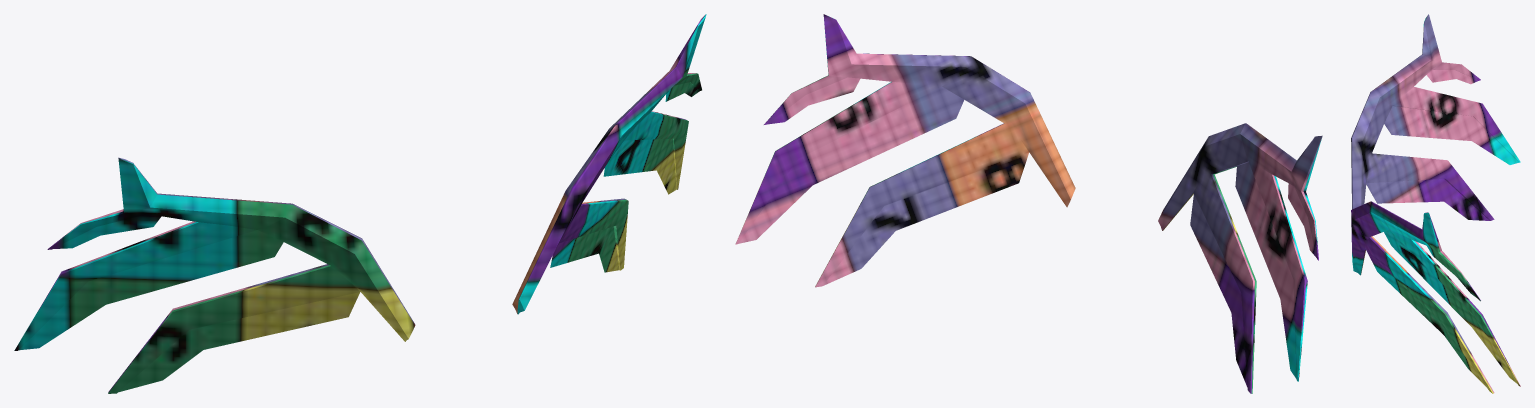
Rendered from wings.obj.
The picture shows the model from 3 angles, left to right: view 1: azimuth 30°, elevation 25°; view 2: azimuth 150°, elevation 25°; view 3: azimuth 270°, elevation 25°; orthographic projection. The views are drawn at different scales.
Parts seen in each view (by area): view 1: polySurface365 polySurface373, polySurface375 polySurface365; view 2: polySurface375 polySurface365, polySurface365 polySurface373; view 3: polySurface365 polySurface373, polySurface375 polySurface365.
Boxes of the visible parts, x1=… form: polySurface365 polySurface373: x1=14, y1=157, x2=415, y2=393; polySurface375 polySurface365: x1=512, y1=14, x2=706, y2=314; polySurface375 polySurface365: x1=735, y1=14, x2=1075, y2=287; polySurface365 polySurface373: x1=1158, y1=123, x2=1322, y2=393; polySurface365 polySurface373: x1=1351, y1=14, x2=1520, y2=220; polySurface375 polySurface365: x1=1351, y1=201, x2=1520, y2=393.
Bounding box in the file's own units: 6.48 × 2.6 × 2.07.
Materials: 1 (1 with a texture image).
